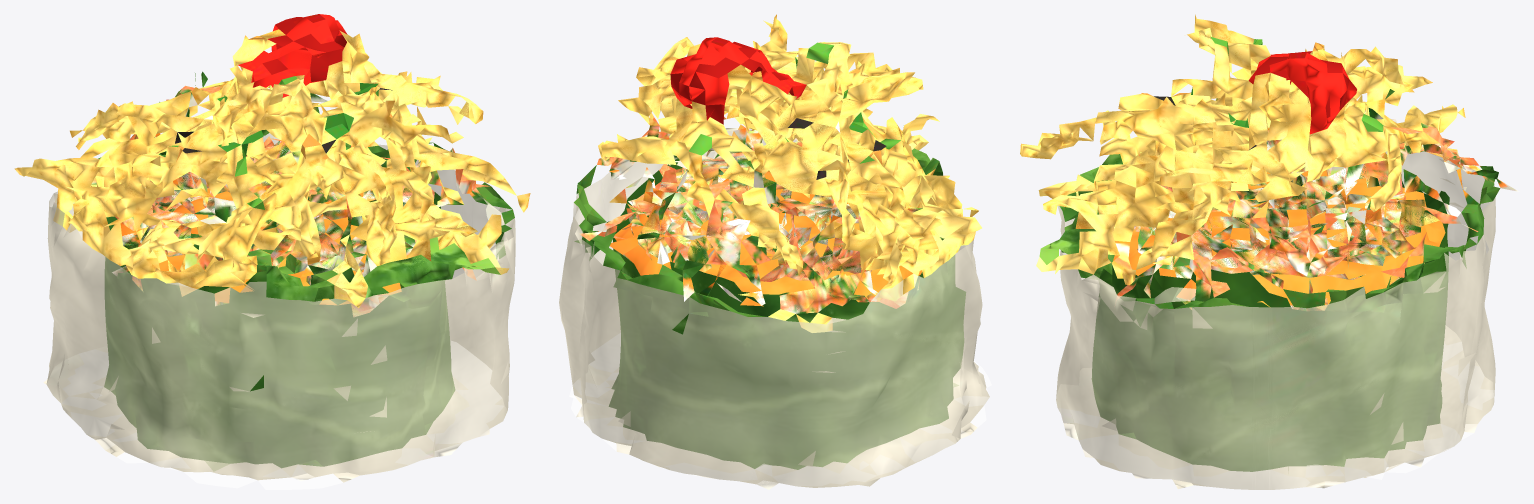
Rendered from sunkiss_lite.glb.
3 renders of one model, left to right at view 1: azimuth 30°, elevation 25°; view 2: azimuth 150°, elevation 25°; view 3: azimuth 270°, elevation 25°, orthographic. The views are drawn at different scales.
Visible parts, largest first — view 1: ing_ricepaper, ing_wontonCrisp, ing_lettuce, ing_carrot, ing_tobiko, ing_coriander; view 2: ing_ricepaper, ing_lettuce, ing_wontonCrisp, ing_carrot, ing_tobiko, ing_scallion; view 3: ing_ricepaper, ing_lettuce, ing_wontonCrisp, ing_carrot, ing_tobiko.
Boxes of the visible parts, box(x1,y1,x2,y2) form: ing_ricepaper: box(43, 133, 515, 489); ing_wontonCrisp: box(14, 29, 530, 307); ing_lettuce: box(98, 129, 514, 467); ing_carrot: box(73, 71, 490, 316); ing_tobiko: box(237, 14, 347, 97); ing_coriander: box(217, 83, 378, 155); ing_ricepaper: box(559, 128, 991, 489); ing_lettuce: box(574, 148, 965, 469); ing_wontonCrisp: box(598, 14, 981, 332); ing_carrot: box(579, 113, 944, 313); ing_tobiko: box(670, 37, 806, 124); ing_scallion: box(689, 42, 902, 163); ing_ricepaper: box(1056, 119, 1495, 489); ing_lettuce: box(1039, 154, 1500, 471); ing_wontonCrisp: box(1020, 14, 1480, 285); ing_carrot: box(1111, 89, 1519, 310); ing_tobiko: box(1248, 51, 1356, 134).
Bounding box in the file's own units: 0.1126 × 0.1028 × 0.1258.
Materials: 2 (2 with a texture image).
